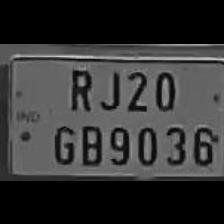0: (150, 64, 178, 112), (132, 120, 158, 166)
2: (122, 65, 150, 112)
3: (159, 120, 187, 166)
6: (188, 122, 216, 166)
9: (104, 122, 130, 166)
B: (78, 122, 103, 166)
G: (49, 120, 75, 164)
J: (96, 63, 122, 111)
R: (66, 63, 94, 113)
